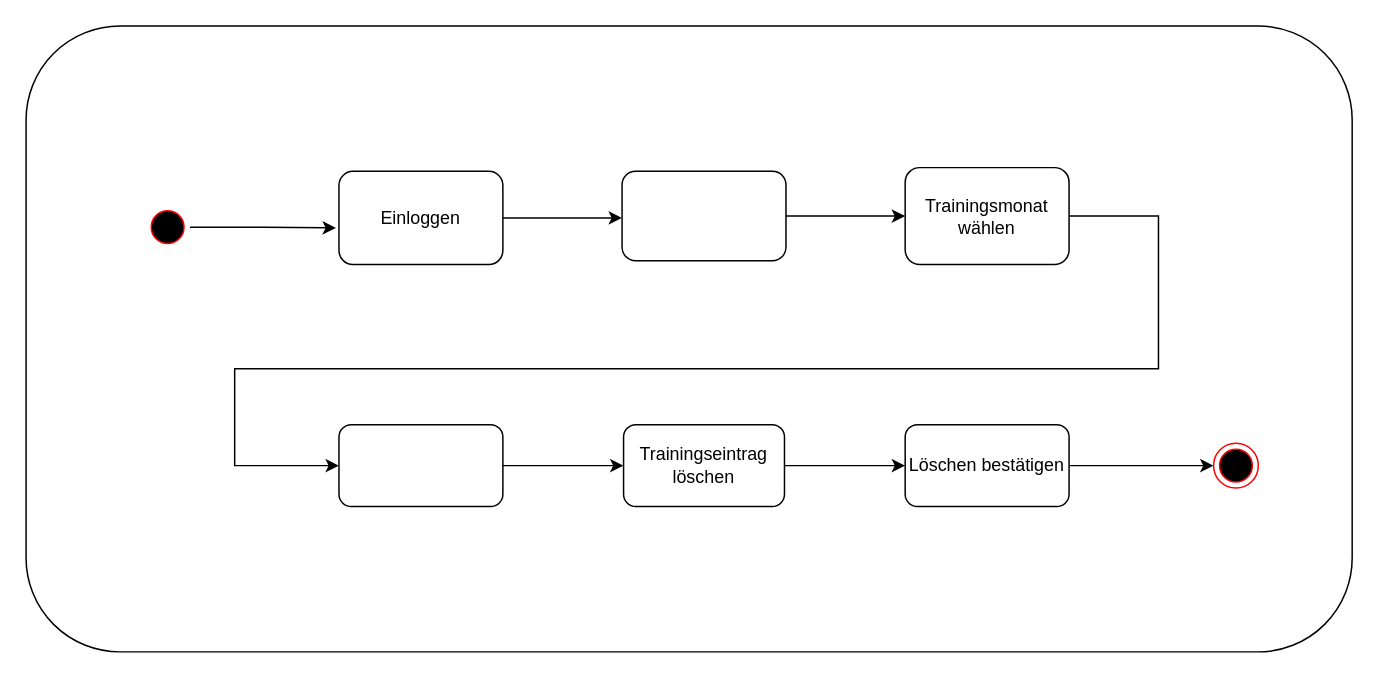
Image size: 1378x678. Some labels were removed from this diagram. The box of each missing label's shape, as (x1, y1, x2, y2) in pixels:
Trainingseintrag wählen: (337, 423, 503, 507)
Trainingskalender aufrufen: (621, 170, 786, 261)
